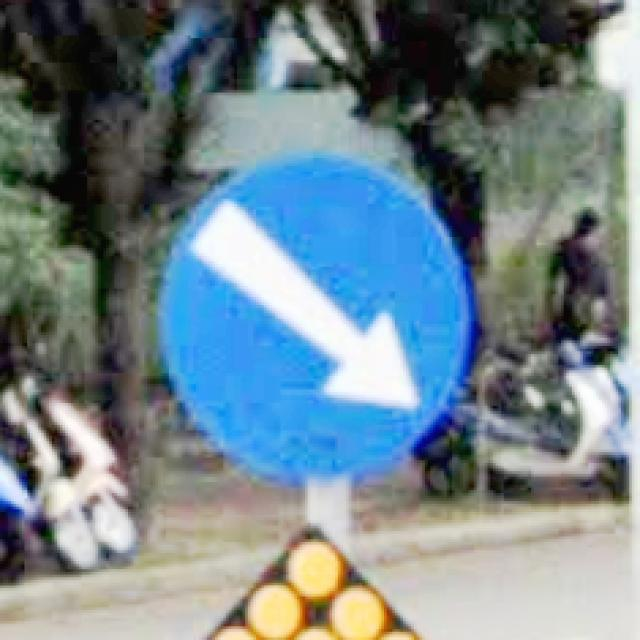thisway: (152, 145, 476, 488)
